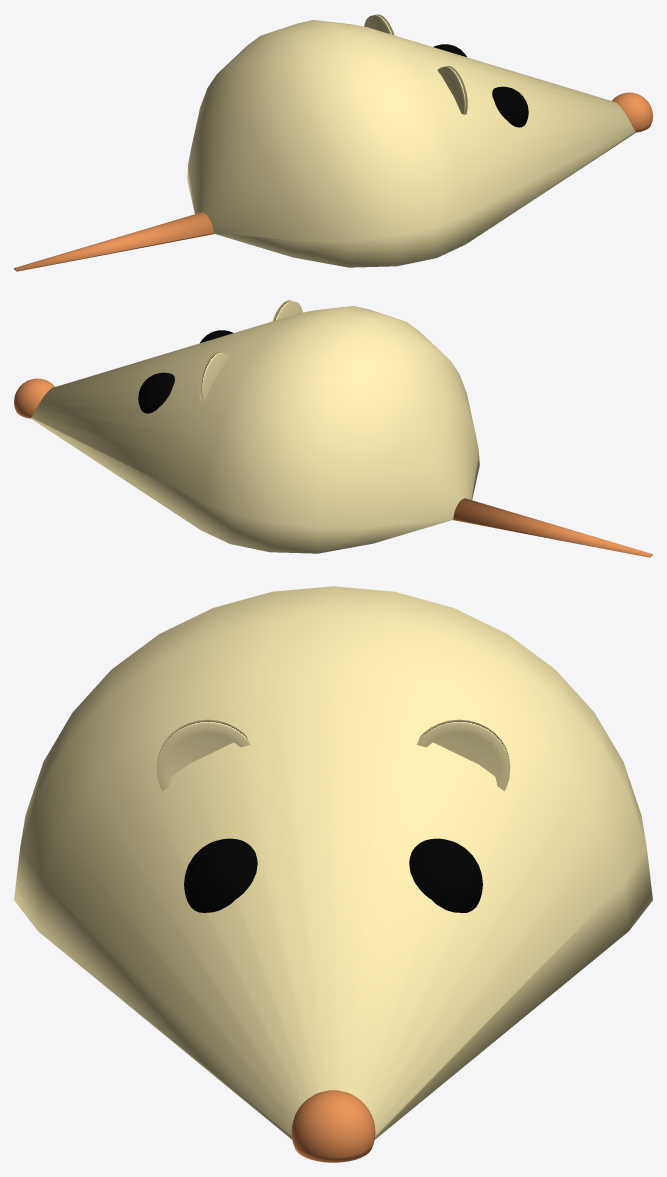
The model's file is mouse1.1.fbx.
The picture shows the model from 3 angles, top to bottom: view 1: azimuth 30°, elevation 25°; view 2: azimuth 150°, elevation 25°; view 3: azimuth 270°, elevation 25°; orthographic projection. The views are drawn at different scales.
Parts seen in each view (by area): view 1: Body, Tail, Eyes, Ears, Nose; view 2: Body, Tail, Eyes, Ears, Nose; view 3: Body, Eyes, Ears, Nose.
Part boxes in pixels (x1,y1,x2,y2): Body: (187, 20, 635, 267); Tail: (14, 212, 213, 271); Eyes: (433, 44, 528, 127); Ears: (364, 14, 467, 114); Nose: (612, 92, 652, 132); Body: (31, 306, 479, 553); Tail: (453, 498, 652, 557); Eyes: (138, 330, 233, 413); Ears: (199, 300, 302, 400); Nose: (14, 378, 54, 418); Body: (14, 586, 652, 1139); Eyes: (184, 838, 482, 912); Ears: (156, 719, 510, 791); Nose: (291, 1090, 375, 1162).
Bounding box in the file's own units: 301 × 74.34 × 147.
